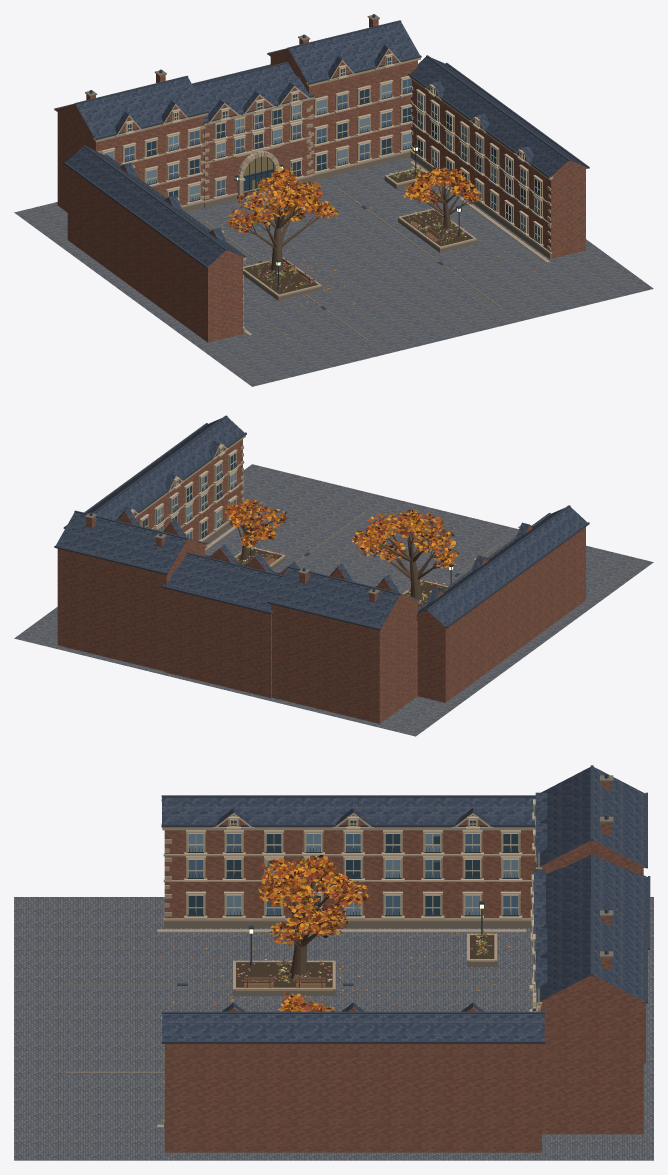
The model's file is campus.glb.
3 renders of one model, top to bottom at view 1: azimuth 30°, elevation 25°; view 2: azimuth 150°, elevation 25°; view 3: azimuth 270°, elevation 25°, orthographic. The views are drawn at different scales.
Parts seen in each view (by area): view 1: Sol de la cour • pavés UV, caniveaux, joints et feuilles, Cour • retour orientale, Cour • retour occidentale, Façade • aile orientale, Façade • aile occidentale, Façade • hall central à voussoirs et trois pignons, Végétation • grand érable d’automne, Végétation • érable du parterre est, Cour • massif de l’arbre principal, Cour • massif et banc est, Cour • massif arrière est; view 2: Sol de la cour • pavés UV, caniveaux, joints et feuilles, Façade • aile occidentale, Cour • retour occidentale, Façade • aile orientale, Façade • hall central à voussoirs et trois pignons, Cour • retour orientale, Végétation • grand érable d’automne, Végétation • érable du parterre est; view 3: Sol de la cour • pavés UV, caniveaux, joints et feuilles, Cour • retour orientale, Cour • retour occidentale, Façade • aile orientale, Façade • aile occidentale, Végétation • grand érable d’automne, Façade • hall central à voussoirs et trois pignons, Cour • massif de l’arbre principal, Cour • massif arrière ouest, Végétation • érable du parterre est.
Part boxes in pixels (bbox=[...]): Sol de la cour • pavés UV, caniveaux, joints et feuilles: bbox=[14, 157, 653, 386]; Cour • retour orientale: bbox=[408, 55, 589, 259]; Cour • retour occidentale: bbox=[63, 145, 246, 342]; Façade • aile orientale: bbox=[267, 14, 421, 181]; Façade • aile occidentale: bbox=[54, 69, 208, 212]; Façade • hall central à voussoirs et trois pignons: bbox=[192, 62, 314, 207]; Végétation • grand érable d’automne: bbox=[227, 167, 338, 276]; Végétation • érable du parterre est: bbox=[403, 167, 482, 232]; Cour • massif de l’arbre principal: bbox=[243, 257, 321, 300]; Cour • massif et banc est: bbox=[398, 207, 476, 252]; Cour • massif arrière est: bbox=[384, 166, 430, 189]; Sol de la cour • pavés UV, caniveaux, joints et feuilles: bbox=[14, 464, 653, 736]; Façade • aile occidentale: bbox=[267, 563, 421, 723]; Cour • retour occidentale: bbox=[416, 505, 589, 702]; Façade • aile orientale: bbox=[54, 508, 208, 671]; Façade • hall central à voussoirs et trois pignons: bbox=[161, 544, 299, 697]; Cour • retour orientale: bbox=[63, 415, 246, 542]; Végétation • grand érable d’automne: bbox=[351, 509, 459, 605]; Végétation • érable du parterre est: bbox=[224, 499, 288, 564]; Sol de la cour • pavés UV, caniveaux, joints et feuilles: bbox=[14, 897, 653, 1160]; Cour • retour orientale: bbox=[161, 1002, 544, 1152]; Cour • retour occidentale: bbox=[161, 795, 536, 928]; Façade • aile orientale: bbox=[532, 900, 647, 1134]; Façade • aile occidentale: bbox=[532, 765, 647, 876]; Végétation • grand érable d’automne: bbox=[258, 855, 369, 981]; Façade • hall central à voussoirs et trois pignons: bbox=[529, 853, 650, 1063]; Cour • massif de l’arbre principal: bbox=[233, 957, 335, 995]; Cour • massif arrière ouest: bbox=[467, 930, 497, 966]; Végétation • érable du parterre est: bbox=[277, 992, 335, 1011].
Size of the model in its own units: 37 by 11.22 by 38.
31 materials, 4 textured.
